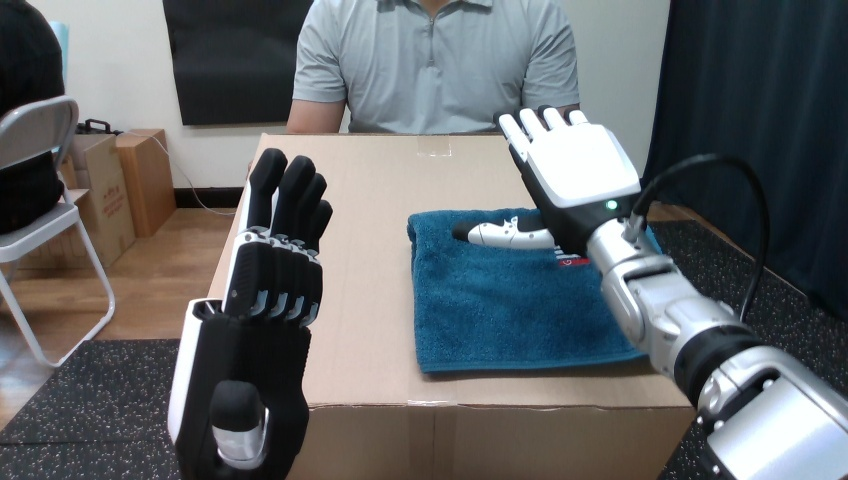left robot hand: (453, 108, 847, 478), (168, 148, 331, 478), (643, 163, 762, 316)
